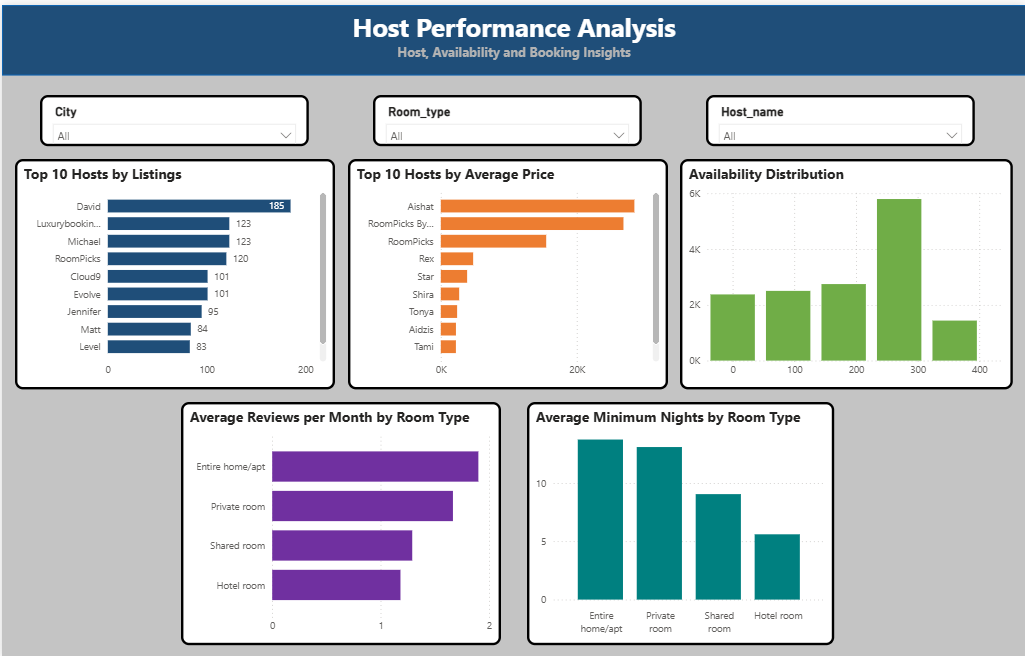

Layout of this report page (visuals, bound fields, positions):
{"tool":"powerbi","page":{"name":"Host Performance Analysis","canvas":[1280,815],"ordinal":1},"visuals":[{"type":"clusteredBarChart","title":"Top 10 Hosts by Listings","fields":{"Category":["Airbnb_Master.host_name"],"Y":["CountNonNull(Airbnb_Master.id)"]},"box":[16,192,400,288],"z":0},{"type":"clusteredBarChart","title":"Top 10 Hosts by Average Price","fields":{"Category":["Airbnb_Master.host_name"],"Y":["Avg(Airbnb_Master.price)"]},"box":[432,192,400,288],"z":1000},{"type":"clusteredColumnChart","title":"Availability Distribution","fields":{"Category":["Airbnb_Master.availability_365 (bins)"],"Y":["CountNonNull(Airbnb_Master.id)"]},"box":[848,192,416,288],"z":3000},{"type":"clusteredBarChart","title":"Average Reviews per Month by Room Type","fields":{"Category":["Airbnb_Master.room_type"],"Y":["Avg(Airbnb_Master.reviews_per_month)"]},"box":[224,496,400,304],"z":4000},{"type":"clusteredColumnChart","title":"Average Minimum Nights by Room Type","fields":{"Category":["Airbnb_Master.room_type"],"Y":["Avg(Airbnb_Master.minimum_nights)"]},"box":[656,496,384,304],"z":5000},{"type":"shape","box":[0,0,1280,88],"z":5001},{"type":"textbox","box":[0,0,1280,88],"z":5002},{"type":"slicer","fields":{"Values":["Airbnb_Master.City"]},"box":[48,112,336,64],"z":5003},{"type":"slicer","fields":{"Values":["Airbnb_Master.room_type"]},"box":[464,112,336,64],"z":5004},{"type":"slicer","fields":{"Values":["Airbnb_Master.host_name"]},"box":[880,112,336,64],"z":5005}]}

Visuals, with their boxes in screenshot pixels (x1, y1, x2, y2), scaled from the page's 1280x815 canvas onto the 1025x656 screenshot:
"Top 10 Hosts by Listings" clusteredBarChart: detection(13, 155, 333, 386)
"Top 10 Hosts by Average Price" clusteredBarChart: detection(346, 155, 666, 386)
"Availability Distribution" clusteredColumnChart: detection(679, 155, 1012, 386)
"Average Reviews per Month by Room Type" clusteredBarChart: detection(179, 399, 500, 644)
"Average Minimum Nights by Room Type" clusteredColumnChart: detection(525, 399, 833, 644)
shape: detection(0, 0, 1024, 71)
textbox: detection(0, 0, 1024, 71)
slicer - Airbnb_Master.City: detection(38, 90, 308, 142)
slicer - Airbnb_Master.room_type: detection(372, 90, 641, 142)
slicer - Airbnb_Master.host_name: detection(705, 90, 974, 142)
